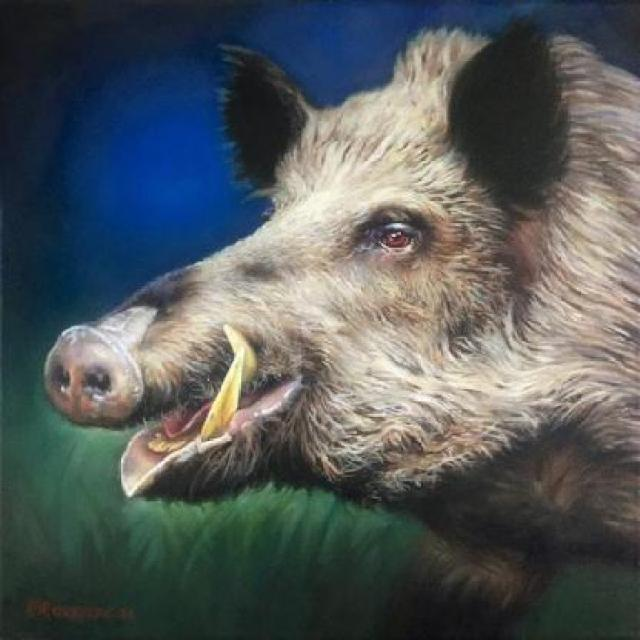wildboar: (38, 15, 640, 640)
